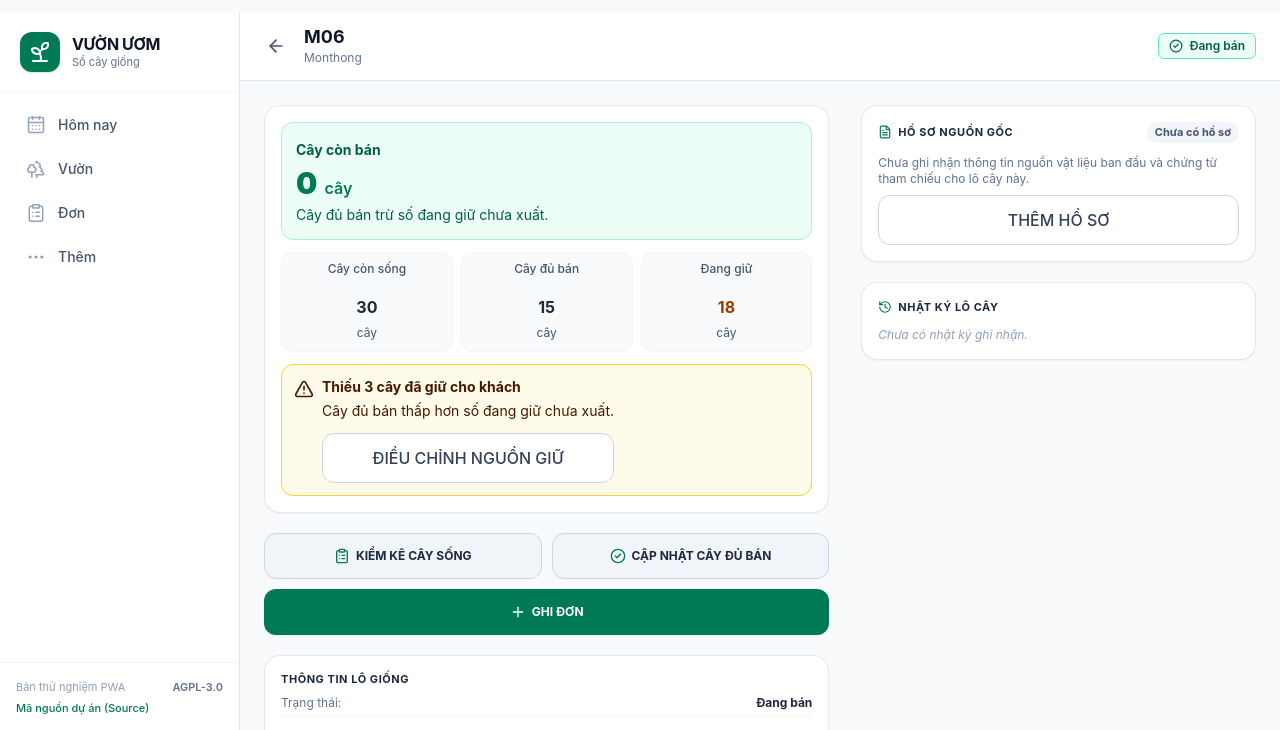
it: V2-A3 quick update composition (real Dexie) › ignores malformed/mismatched route intent {"kind":"delete","batchId":"a"}
expect the button "KIỂM KÊ CÂY SỐNG" is shown: met, box x1=264 y1=533 x2=542 y2=579
What coordinates should you click on to do the following:
click the button named "Quay lại"
I would click on:
 (276, 46)
Its box is x1=256 y1=26 x2=296 y2=66.
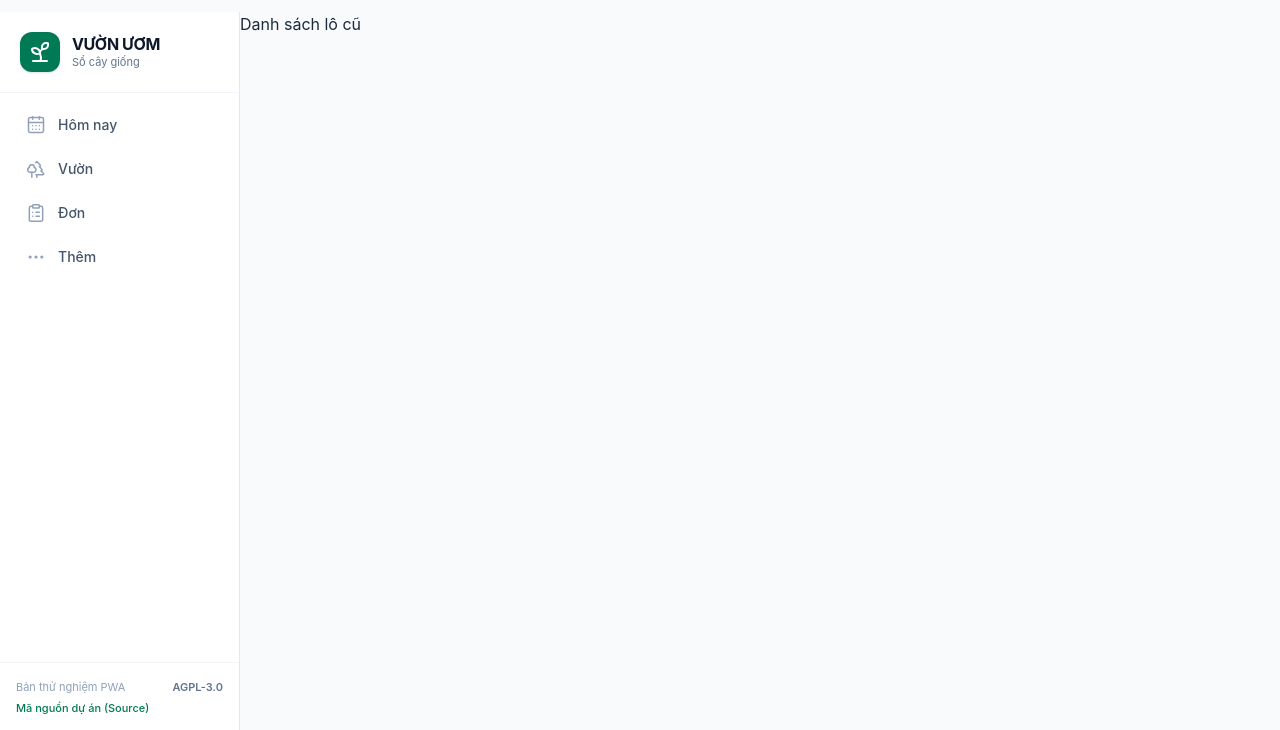
expect the heading "Danh sách lô cũ" is shown: met, box x1=240 y1=14 x2=361 y2=34
